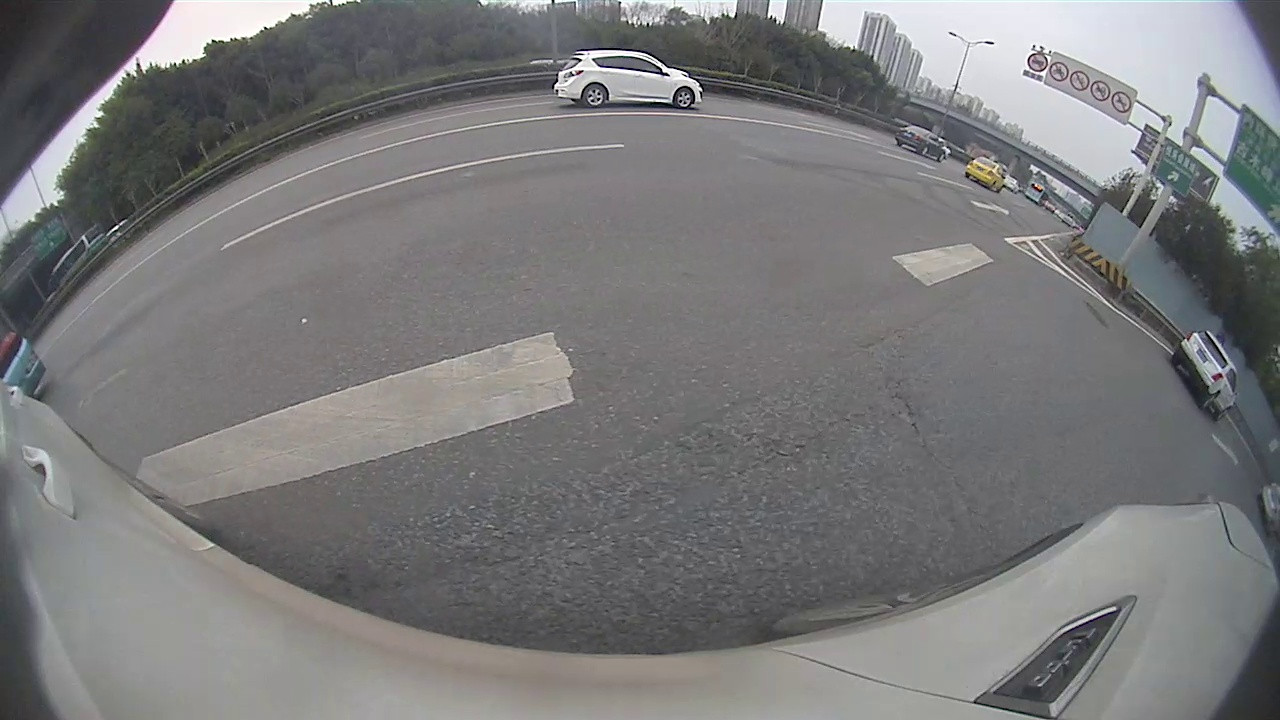car: (553, 52, 703, 110), (1171, 330, 1236, 418), (897, 125, 949, 163), (964, 156, 1003, 194)
front: (673, 89, 695, 111), (1214, 406, 1233, 423)
rear: (583, 85, 608, 109), (1200, 390, 1220, 414)
